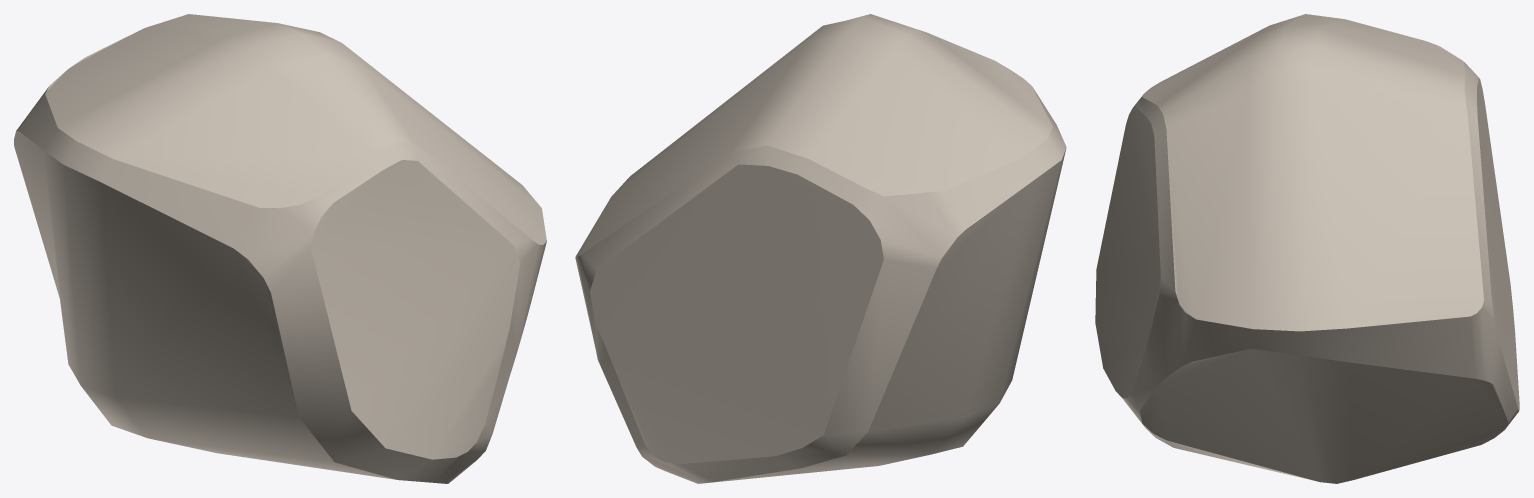
File: illustrated-boulder-01.glb
3 views of the same model, side by side, from view 1: azimuth 30°, elevation 25°; view 2: azimuth 150°, elevation 25°; view 3: azimuth 270°, elevation 25° (orthographic). The views are drawn at different scales.
Visible parts, largest first — view 1: illustrated-boulder-01; view 2: illustrated-boulder-01; view 3: illustrated-boulder-01.
Boxes of the visible parts, x1,y1,x2,y2 form: illustrated-boulder-01: [14, 14, 546, 483]; illustrated-boulder-01: [575, 14, 1066, 483]; illustrated-boulder-01: [1095, 14, 1519, 483].
Bounding box in the file's own units: 1.18 × 1.15 × 1.09.
